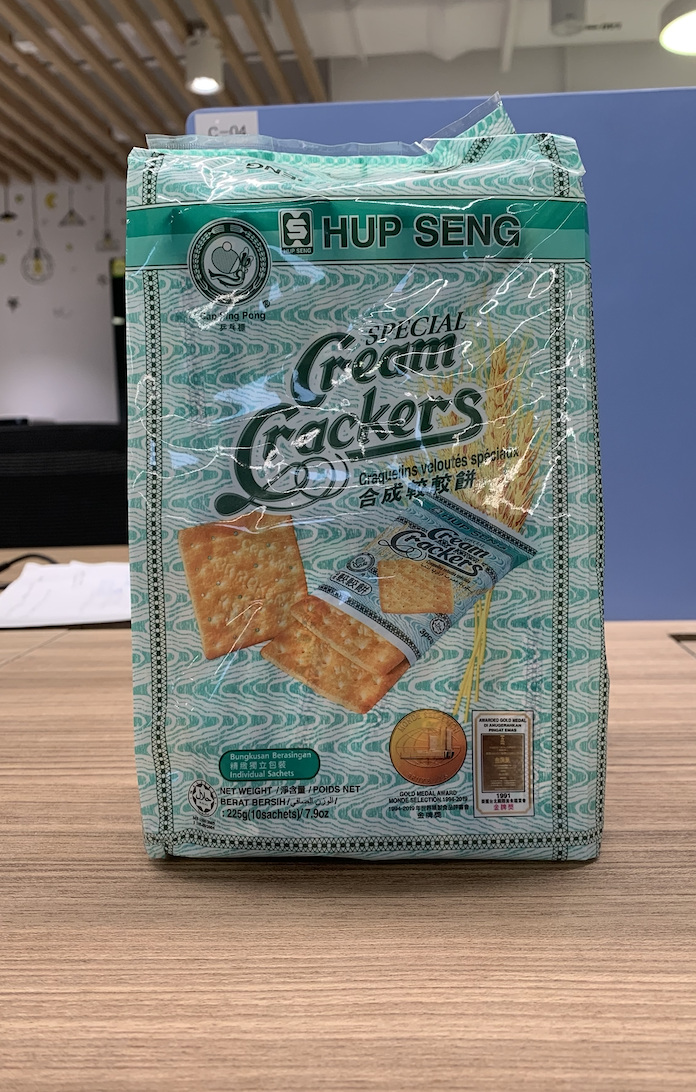halal: (191, 782, 215, 812)
